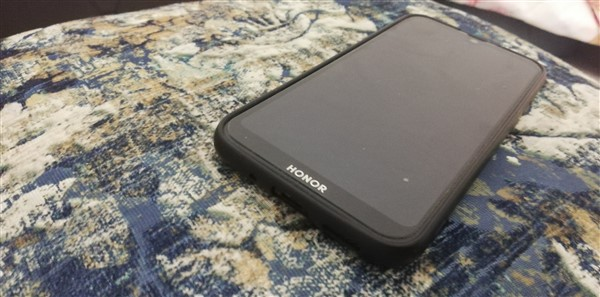telefon: (206, 9, 553, 269)
